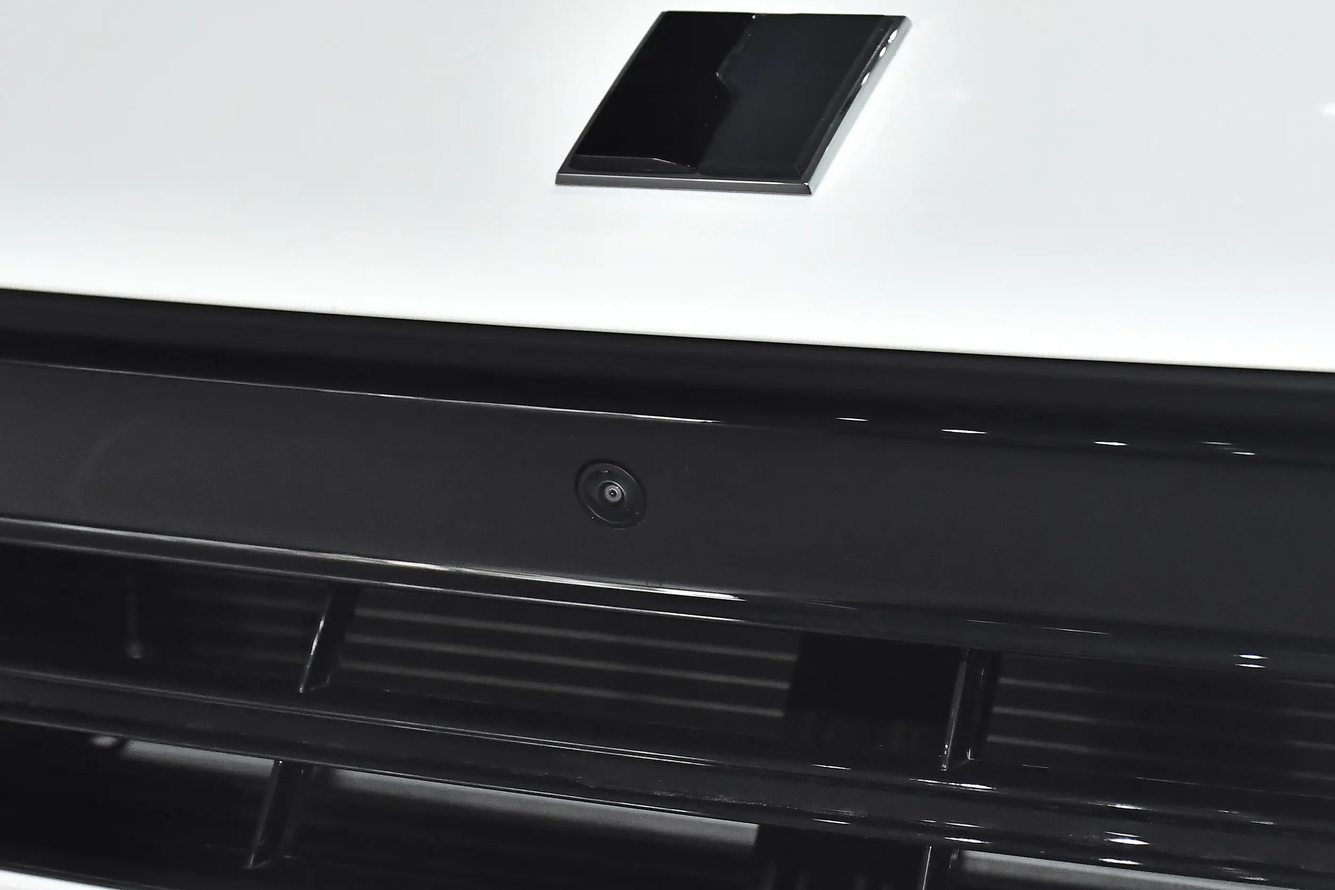LINK&CO: (555, 11, 908, 193)
